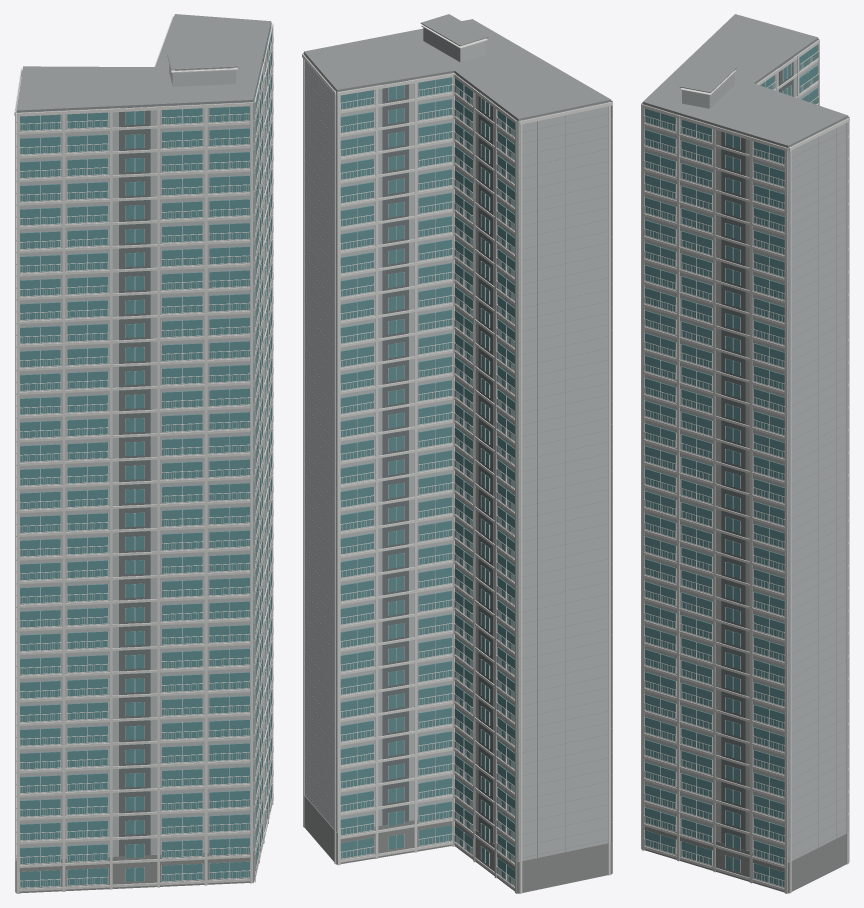
The model's file is bespoke-jamsil-ricenz-204.glb.
3 renders of one model, left to right at view 1: azimuth 30°, elevation 25°; view 2: azimuth 150°, elevation 25°; view 3: azimuth 270°, elevation 25°, orthographic. The views are drawn at different scales.
Visible parts, largest first — view 1: Ricenz204_editable_Ricenz204_turquoise_balcony_glazing, Ricenz204_editable_Ricenz204_light_grey_solid_wall, Ricenz204_white_exact_chunk_4, Ricenz204_white_exact_chunk_5, Ricenz204_white_exact_chunk_3, Ricenz204_editable_Ricenz204_narrow_charcoal_service_strips, Ricenz204_editable_Ricenz204_modest_grey_flat_roof_caps, Ricenz204_white_exact_chunk_0, Ricenz204_white_exact_chunk_1, Ricenz204_editable_Ricenz204_muted_ground_wall; view 2: Ricenz204_editable_Ricenz204_light_grey_solid_wall, Ricenz204_editable_Ricenz204_turquoise_balcony_glazing, Ricenz204_white_exact_chunk_2, Ricenz204_editable_Ricenz204_modest_grey_flat_roof_caps, Ricenz204_white_exact_chunk_3, Ricenz204_white_exact_chunk_1, Ricenz204_editable_Ricenz204_narrow_charcoal_service_strips, Ricenz204_editable_Ricenz204_muted_ground_wall, Ricenz204_white_exact_chunk_5; view 3: Ricenz204_editable_Ricenz204_light_grey_solid_wall, Ricenz204_editable_Ricenz204_turquoise_balcony_glazing, Ricenz204_white_exact_chunk_1, Ricenz204_white_exact_chunk_0, Ricenz204_editable_Ricenz204_modest_grey_flat_roof_caps, Ricenz204_editable_Ricenz204_narrow_charcoal_service_strips, Ricenz204_editable_Ricenz204_muted_ground_wall, Ricenz204_white_exact_chunk_2, Ricenz204_white_exact_chunk_3, Ricenz204_white_exact_chunk_5.
Boxes of the visible parts, bbox=[...] form: Ricenz204_editable_Ricenz204_turquoise_balcony_glazing: bbox=[19, 27, 271, 887]; Ricenz204_editable_Ricenz204_light_grey_solid_wall: bbox=[16, 24, 271, 860]; Ricenz204_white_exact_chunk_4: bbox=[65, 108, 250, 887]; Ricenz204_white_exact_chunk_5: bbox=[16, 58, 253, 893]; Ricenz204_white_exact_chunk_3: bbox=[14, 68, 109, 892]; Ricenz204_editable_Ricenz204_narrow_charcoal_service_strips: bbox=[119, 46, 266, 856]; Ricenz204_editable_Ricenz204_modest_grey_flat_roof_caps: bbox=[16, 14, 271, 855]; Ricenz204_white_exact_chunk_0: bbox=[254, 70, 268, 879]; Ricenz204_white_exact_chunk_1: bbox=[254, 22, 273, 882]; Ricenz204_editable_Ricenz204_muted_ground_wall: bbox=[15, 788, 269, 893]; Ricenz204_editable_Ricenz204_light_grey_solid_wall: bbox=[304, 28, 611, 861]; Ricenz204_editable_Ricenz204_turquoise_balcony_glazing: bbox=[340, 77, 514, 885]; Ricenz204_white_exact_chunk_2: bbox=[337, 73, 514, 890]; Ricenz204_editable_Ricenz204_modest_grey_flat_roof_caps: bbox=[304, 14, 611, 858]; Ricenz204_white_exact_chunk_3: bbox=[452, 73, 612, 893]; Ricenz204_white_exact_chunk_1: bbox=[302, 52, 414, 864]; Ricenz204_editable_Ricenz204_narrow_charcoal_service_strips: bbox=[382, 80, 493, 842]; Ricenz204_editable_Ricenz204_muted_ground_wall: bbox=[304, 795, 611, 893]; Ricenz204_white_exact_chunk_5: bbox=[421, 25, 612, 873]; Ricenz204_editable_Ricenz204_light_grey_solid_wall: bbox=[643, 40, 847, 862]; Ricenz204_editable_Ricenz204_turquoise_balcony_glazing: bbox=[644, 45, 817, 886]; Ricenz204_white_exact_chunk_1: bbox=[641, 104, 849, 893]; Ricenz204_white_exact_chunk_0: bbox=[644, 108, 749, 880]; Ricenz204_editable_Ricenz204_modest_grey_flat_roof_caps: bbox=[642, 14, 848, 857]; Ricenz204_editable_Ricenz204_narrow_charcoal_service_strips: bbox=[721, 57, 793, 849]; Ricenz204_editable_Ricenz204_muted_ground_wall: bbox=[644, 823, 848, 893]; Ricenz204_white_exact_chunk_2: bbox=[765, 63, 849, 862]; Ricenz204_white_exact_chunk_3: bbox=[757, 38, 819, 105]; Ricenz204_white_exact_chunk_5: bbox=[641, 16, 736, 848].
Size of the model in its own units: 37.1 by 99.36 by 24.6.
